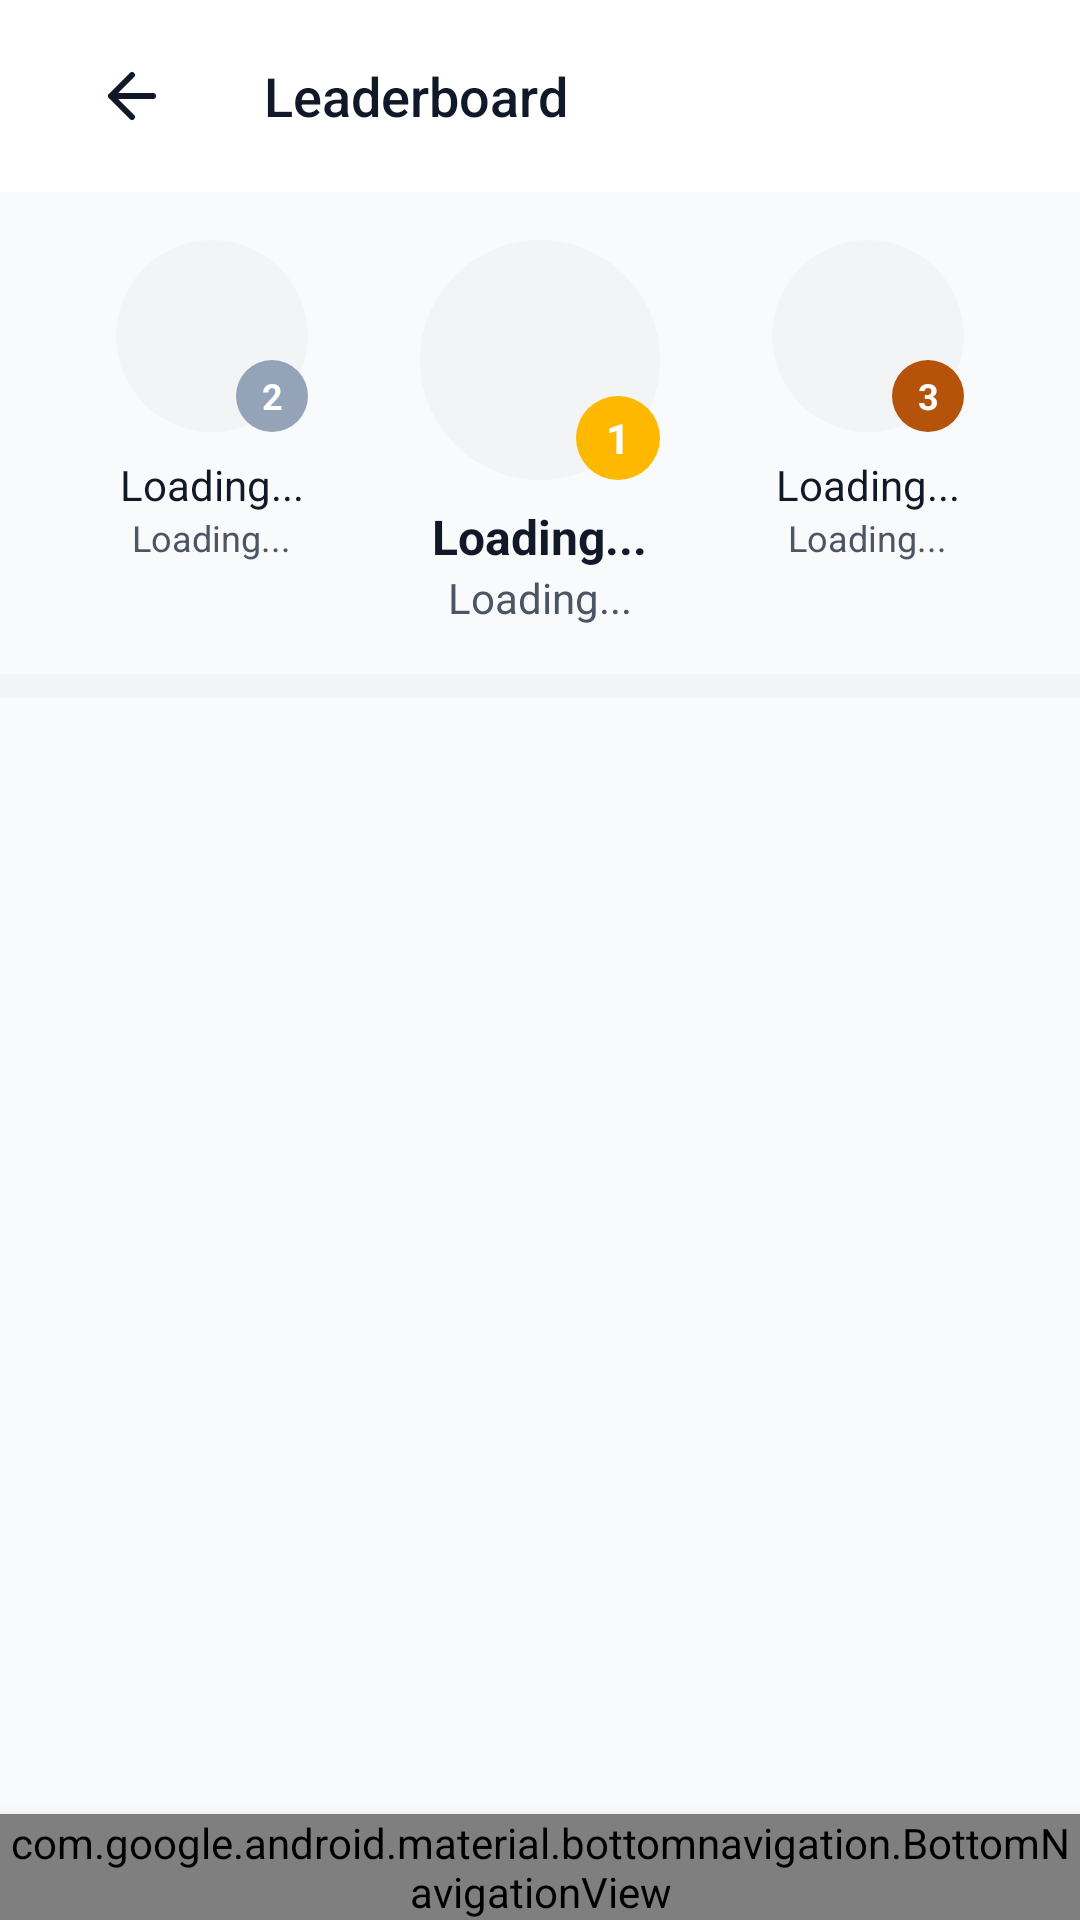

Named icons in this screenshot (1080px×1920px) and their bounding boxes, (left=x1, top=y1, right=x2, bottom=y2):
arrow left: (left=108, top=72, right=156, bottom=120)
